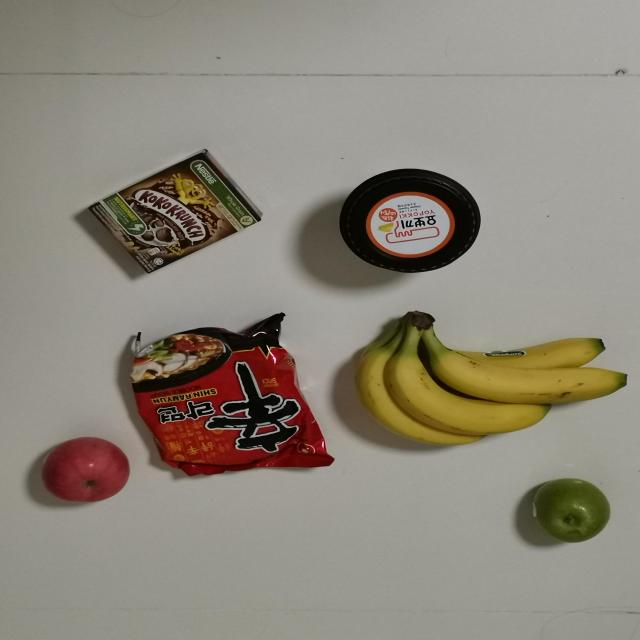Apple: (521, 470, 618, 545), (37, 433, 134, 507)
Banana: (352, 306, 634, 450)
Cerealbox: (68, 143, 262, 276)
